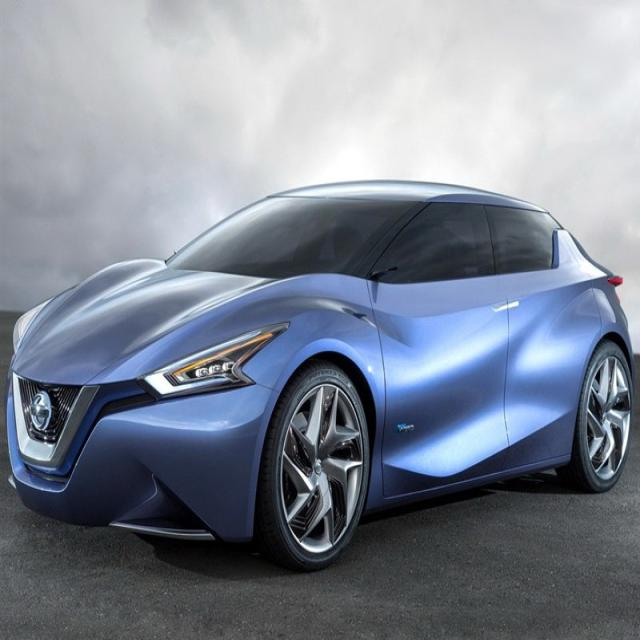front_bumper: (6, 364, 282, 546)
front_glass: (159, 195, 422, 282)
front_left_side_door: (366, 192, 516, 504)
front_left_side_light: (140, 315, 294, 401)
front_right_side_light: (12, 296, 52, 362)
wheel: (259, 368, 374, 567), (553, 336, 636, 491)
